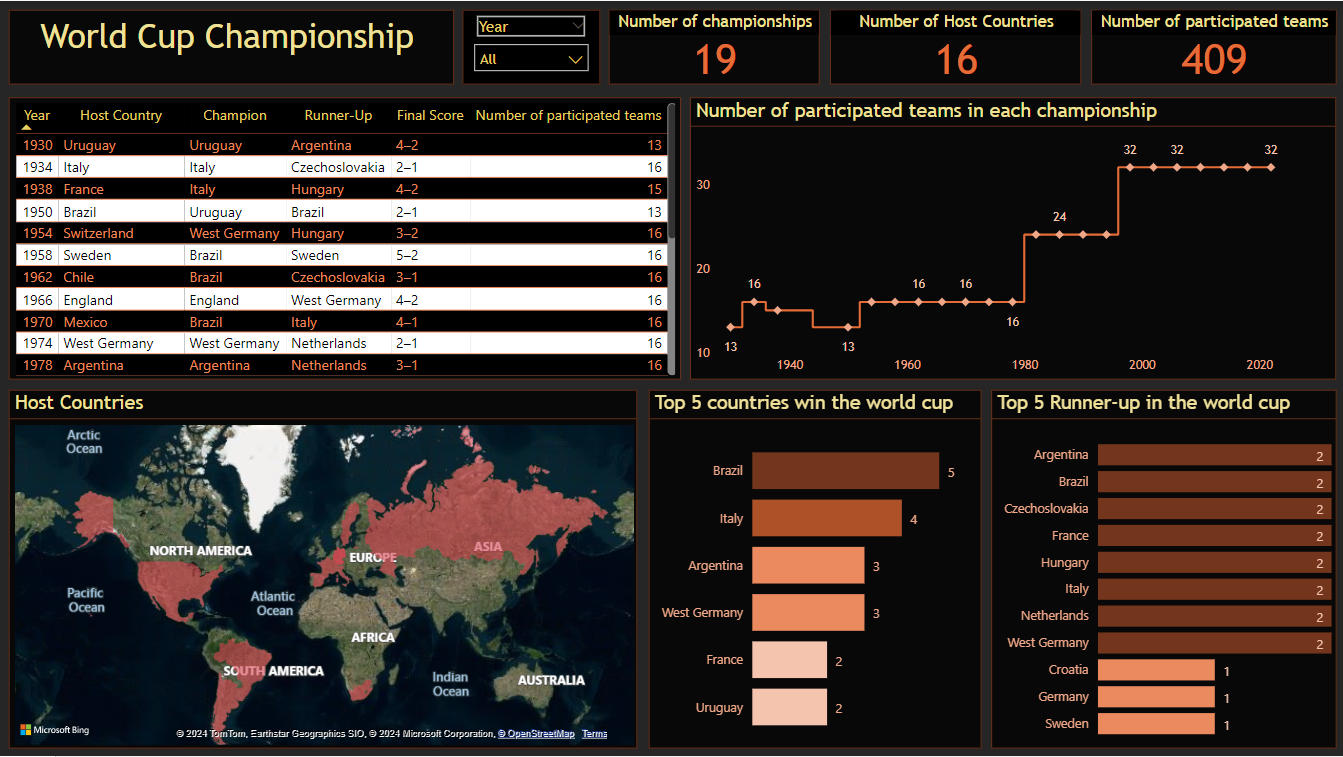

What the dashboard file says about the page in this screenshot:
{"tool":"powerbi","page":{"name":"World Cup Championship Dashboard","canvas":[1280,720],"ordinal":0},"visuals":[{"type":"filledMap","title":"Host Countries","fields":{"Category":["Results.Host Country"]},"box":[8.3,370.1,598.6,341.6],"z":0},{"type":"card","title":"Number of championships","fields":{"Values":["Count(Results.Year)"]},"box":[579.6,8.3,201.1,71.4],"z":1000},{"type":"lineChart","title":"Number of participated teams in each championship","fields":{"Category":["Results.Year"],"Y":["Sum(Results.Number of teams)"]},"box":[656.9,91.6,615.3,269],"z":2000},{"type":"tableEx","fields":{"Values":["Results.Year","Results.Host Country","Results.Champion","Results.Runner-Up","Results.Final Score","Sum(Results.Number of teams)"]},"box":[8.3,91.6,640.3,269],"z":3000},{"type":"slicer","fields":{"Values":["Results.Year"]},"box":[440.3,8.3,130.9,71.4],"z":4000},{"type":"card","title":"Number of participated teams","fields":{"Values":["Sum(Results.Number of teams)"]},"box":[1038.9,8.3,233.3,71.4],"z":5000},{"type":"card","title":"Number of Host Countries","fields":{"Values":["Count(Results.Host Country)"]},"box":[790.2,8.3,239.2,71.4],"z":6000},{"type":"textbox","box":[8.3,8.3,423.7,71.4],"z":7000},{"type":"barChart","title":"Top 5 countries win the world cup","fields":{"Category":["Results.Champion"],"Y":["CountNonNull(Results.Champion)"]},"box":[617.7,370.1,316.6,341.6],"z":8000},{"type":"barChart","title":"Top 5 Runner-up in the world cup","fields":{"Y":["CountNonNull(Results.Runner-Up)"],"Category":["Results.Runner-Up"]},"box":[943.7,370.1,328.5,341.6],"z":9000}]}

Visuals, with their boxes in screenshot pixels (x1, y1, x2, y2), scaled from the page's 1280x720 canvas onto the 1343x757 screenshot:
"Host Countries" filledMap: [9,389,637,748]
"Number of championships" card: [608,9,819,84]
"Number of participated teams in each championship" lineChart: [689,96,1335,379]
tableEx - Results.Year x Results.Host Country: [9,96,681,379]
slicer - Results.Year: [462,9,599,84]
"Number of participated teams" card: [1090,9,1335,84]
"Number of Host Countries" card: [829,9,1080,84]
textbox: [9,9,453,84]
"Top 5 countries win the world cup" barChart: [648,389,980,748]
"Top 5 Runner-up in the world cup" barChart: [990,389,1335,748]
